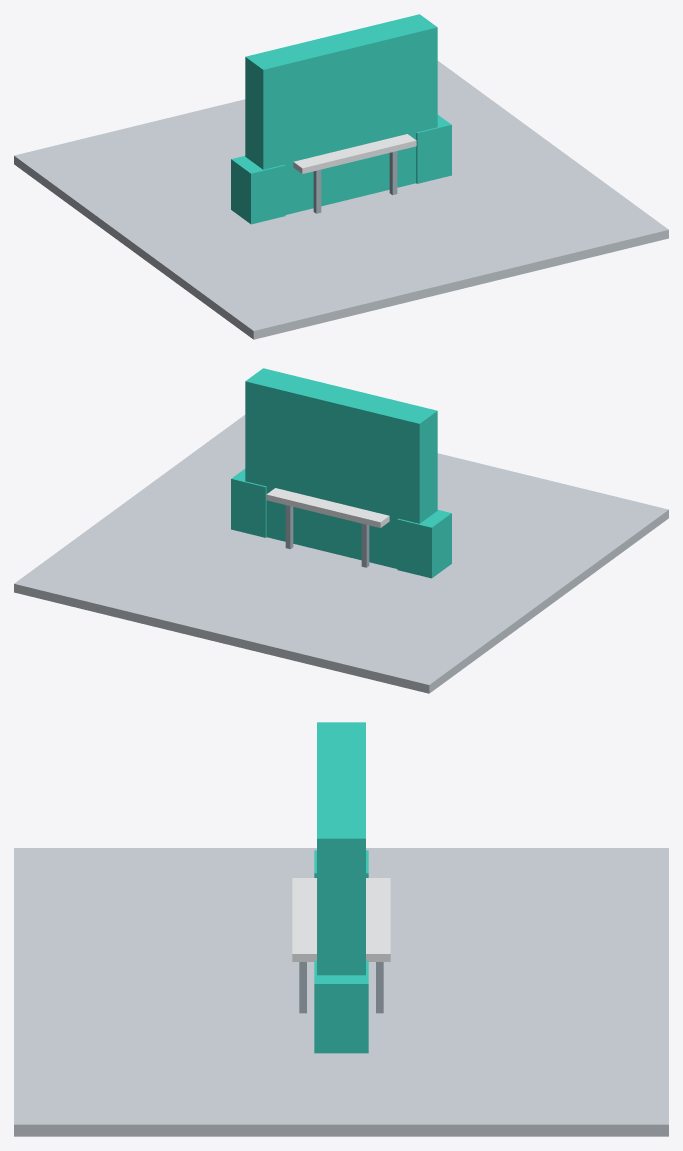
3 renders of one model, top to bottom at view 1: azimuth 30°, elevation 25°; view 2: azimuth 150°, elevation 25°; view 3: azimuth 270°, elevation 25°, orthographic. The views are drawn at different scales.
Visible parts, largest first — view 1: Exhibition Booth Concept; view 2: Exhibition Booth Concept; view 3: Exhibition Booth Concept.
Part boxes in pixels (bbox=[...]): Exhibition Booth Concept: bbox=[14, 14, 668, 339]; Exhibition Booth Concept: bbox=[14, 368, 668, 693]; Exhibition Booth Concept: bbox=[14, 722, 668, 1136].
Bounding box in the file's own units: 6 × 2.2 × 6.
